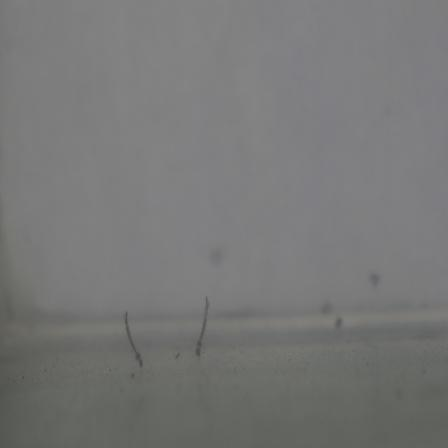Jentik-Nyamuk: (119, 307, 149, 371), (190, 291, 215, 362)
